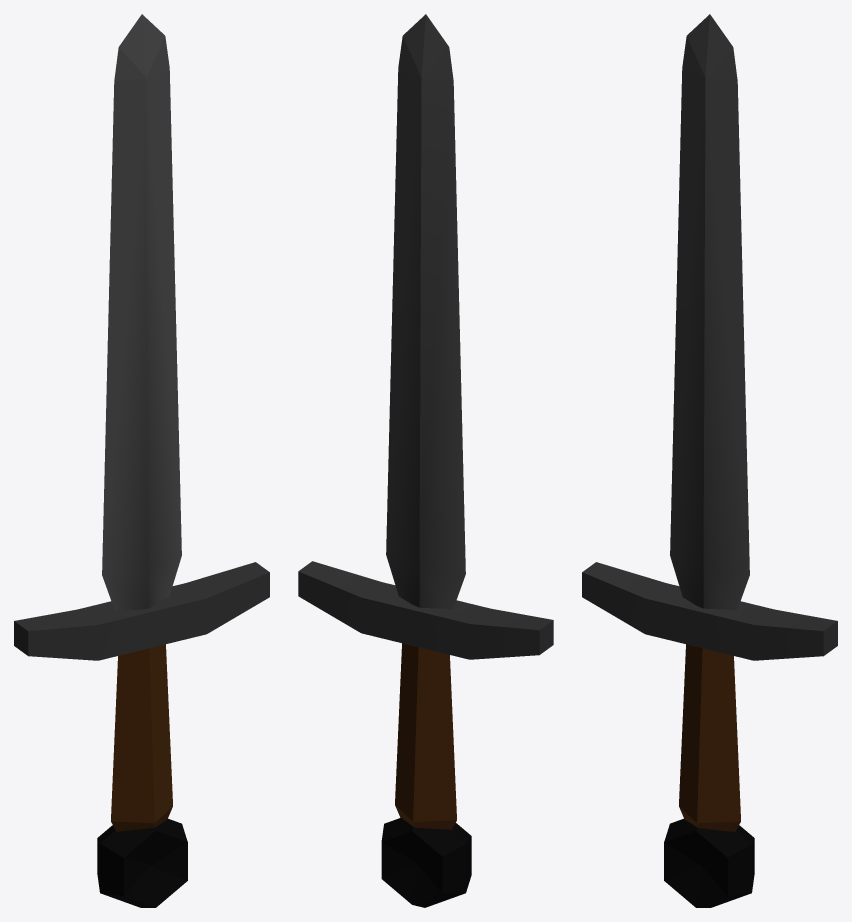
The model's file is Knight_1HSword.fbx.
The picture shows the model from 3 angles, left to right: view 1: azimuth 30°, elevation 25°; view 2: azimuth 150°, elevation 25°; view 3: azimuth 330°, elevation 25°; orthographic projection.
Visible parts, largest first — view 1: polySurface312; view 2: polySurface312; view 3: polySurface312.
Boxes of the visible parts, box(x1,y1,x2,y2) form: polySurface312: box(14, 14, 269, 907); polySurface312: box(298, 14, 553, 907); polySurface312: box(582, 14, 837, 907).
Size of the model in its own units: 0.6159 by 2.18 by 0.123.
